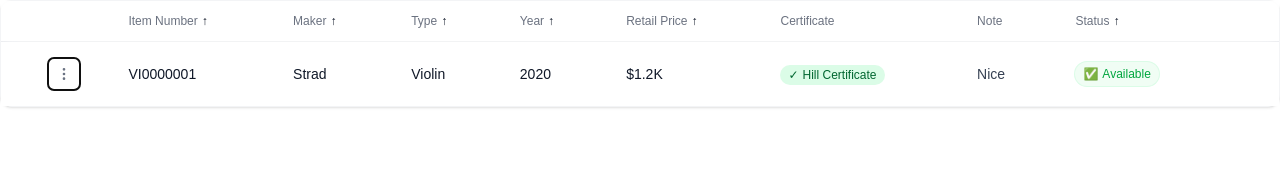
it: ItemList › shows Saved after successful inline save
The image size is (1280, 189).
Step 1. Click the button named "More actions" → (64, 74), box [48,58,80,90]
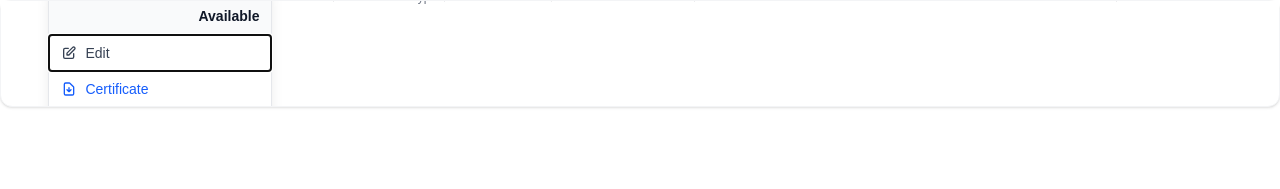
Step 2. Click the menu item "Edit" → (160, 53), box [49,35,271,71]
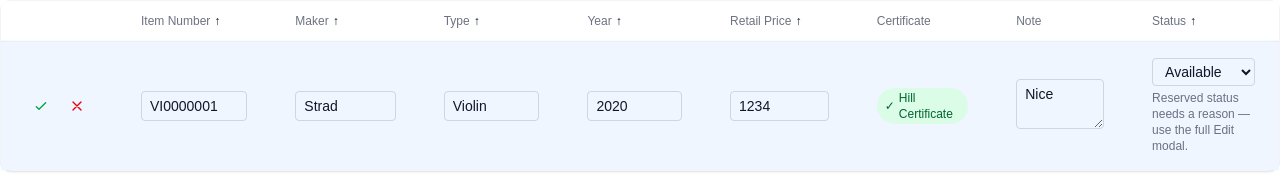
Step 3. Click the button titled "Save changes" → (41, 106), box [25,90,57,122]
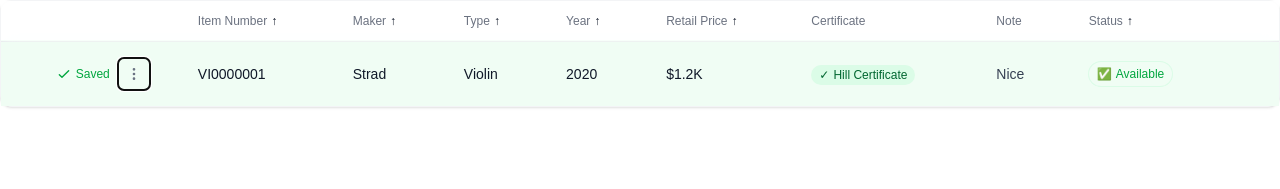
Expected: the text "Saved" is shown, [76,66,110,82]
